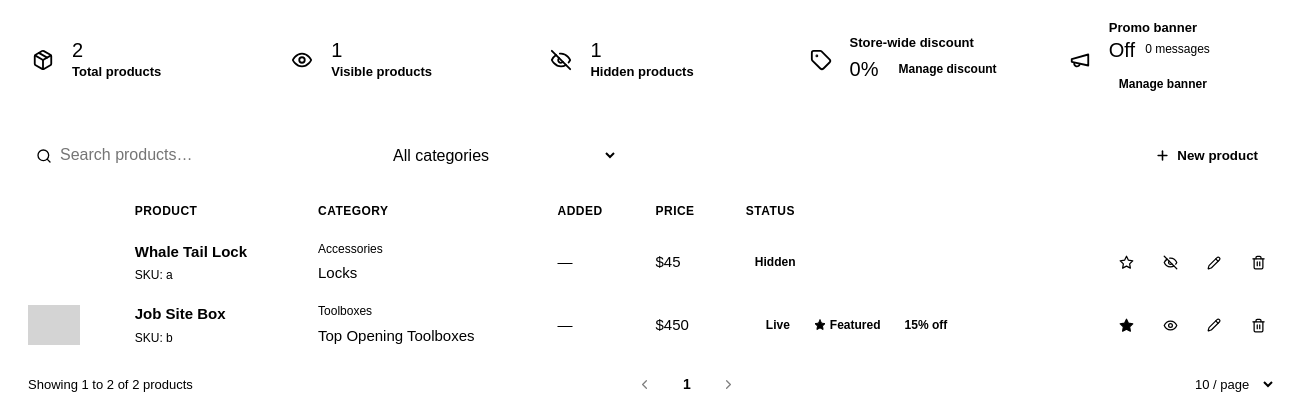
Test: ProductList › filters by title search
In the search field labelled "Search products…": (194, 156) [24,131,364,180], type "whale"
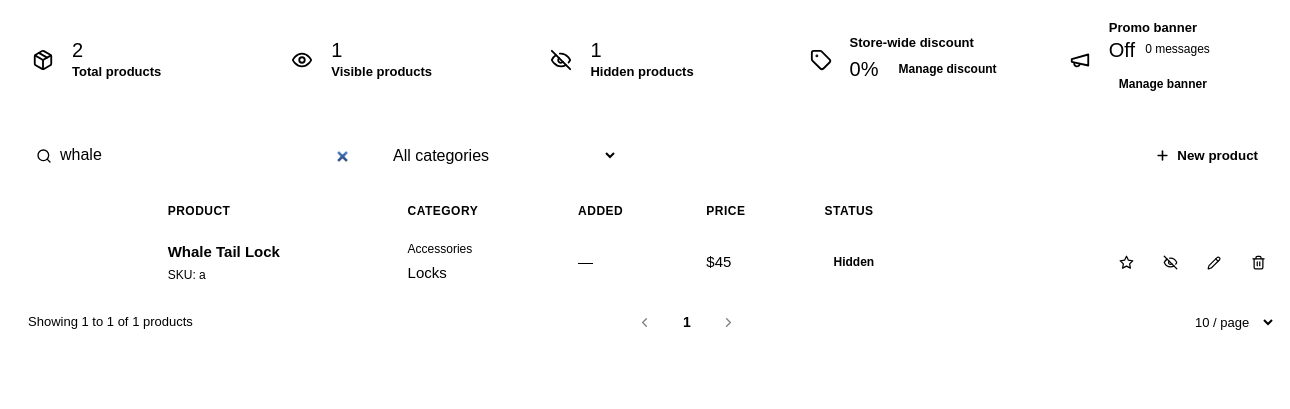
Expected: the text "Whale Tail Lock" is shown, [168,243,280,260]
Now the text "Job Site Box" is gone
